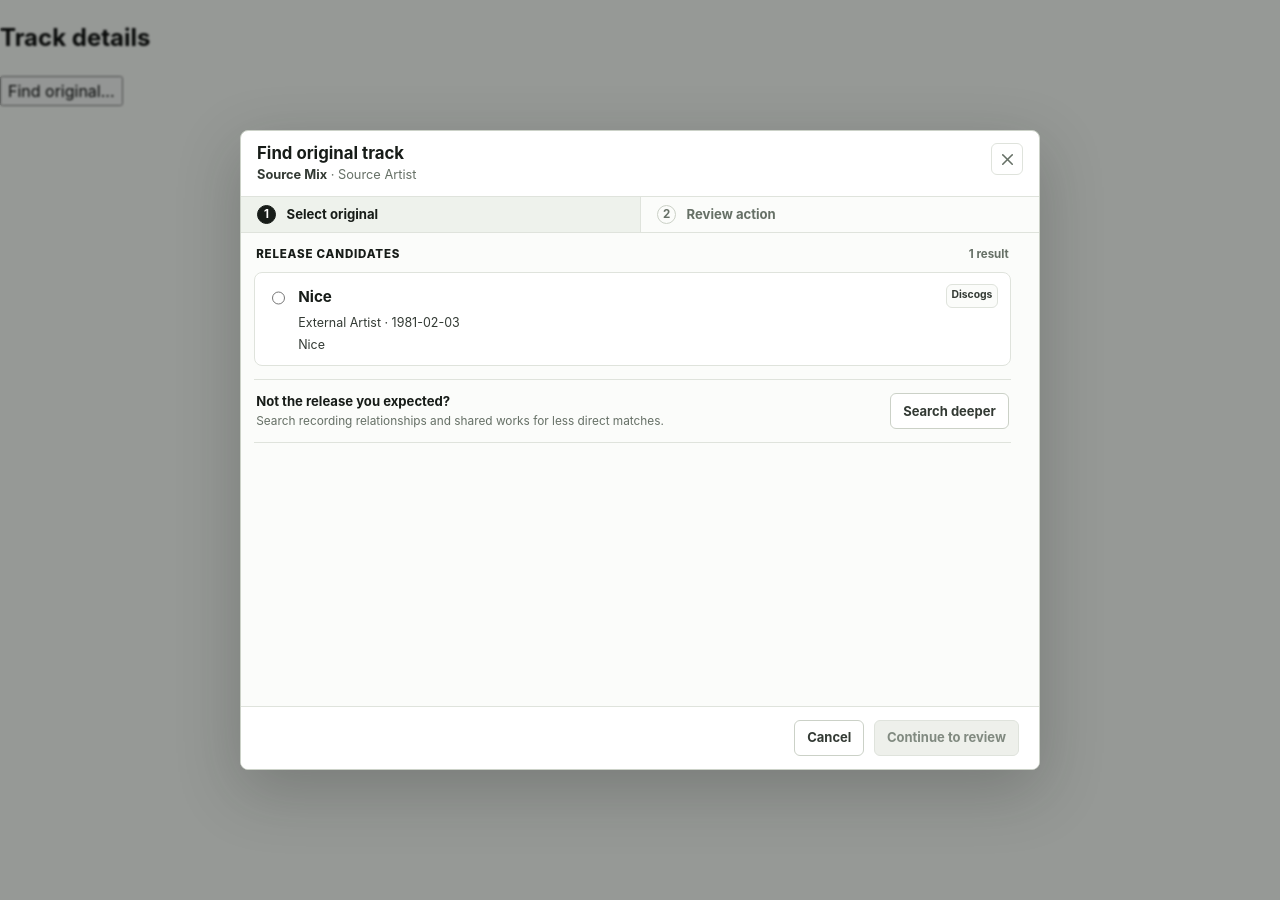
OriginalTrackDiscoveryDialog release-first results › shows and reviews a Discogs-only release without a MusicBrainz link
The image size is (1280, 900).
What coordinates should you click on to do the following:
click the radio button
I would click on:
 (278, 298)
Its box is [272,288,285,308].
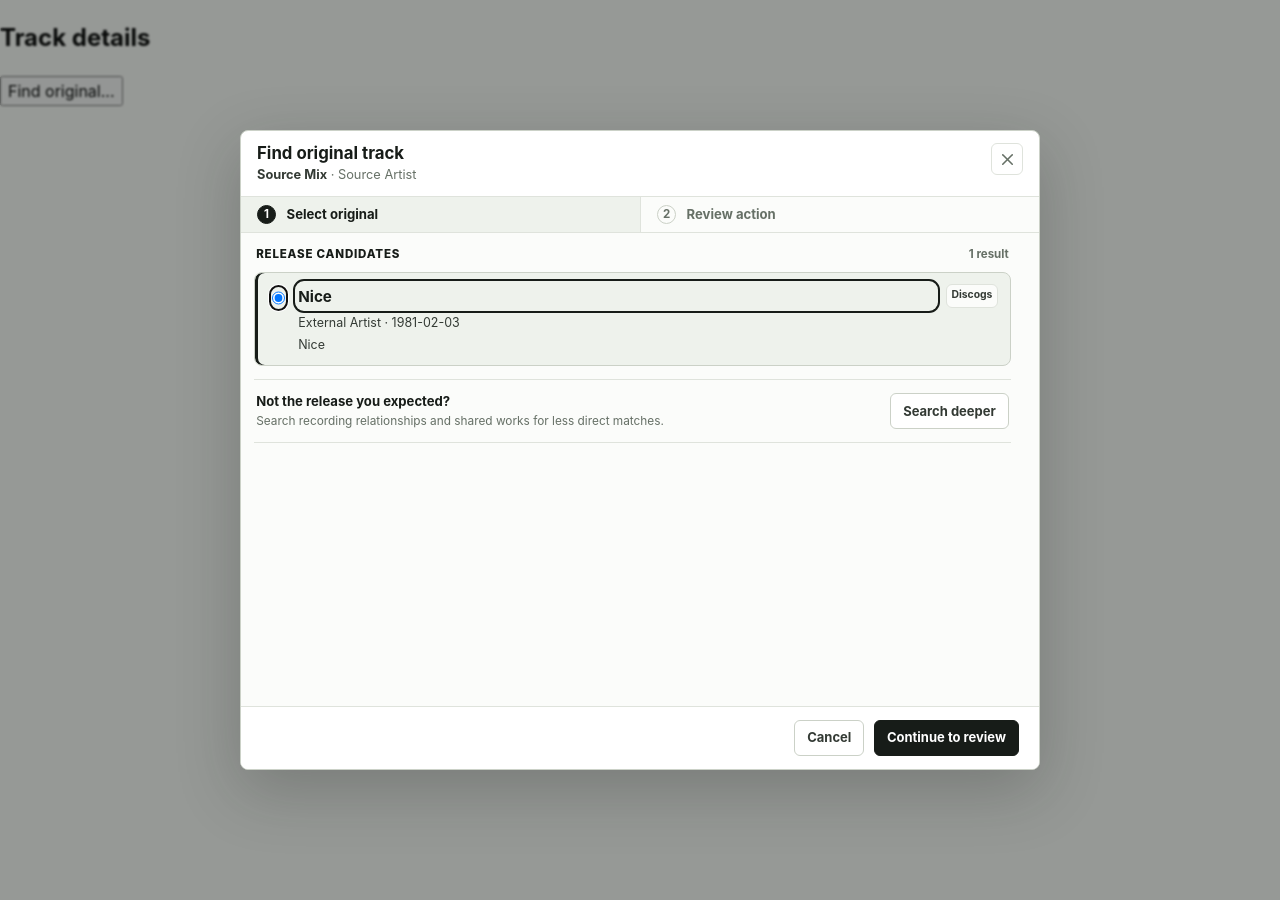
What coordinates should you click on to do the following:
click the button "Continue to review"
I would click on:
 (946, 738)
Its box is [874,720,1019,756].
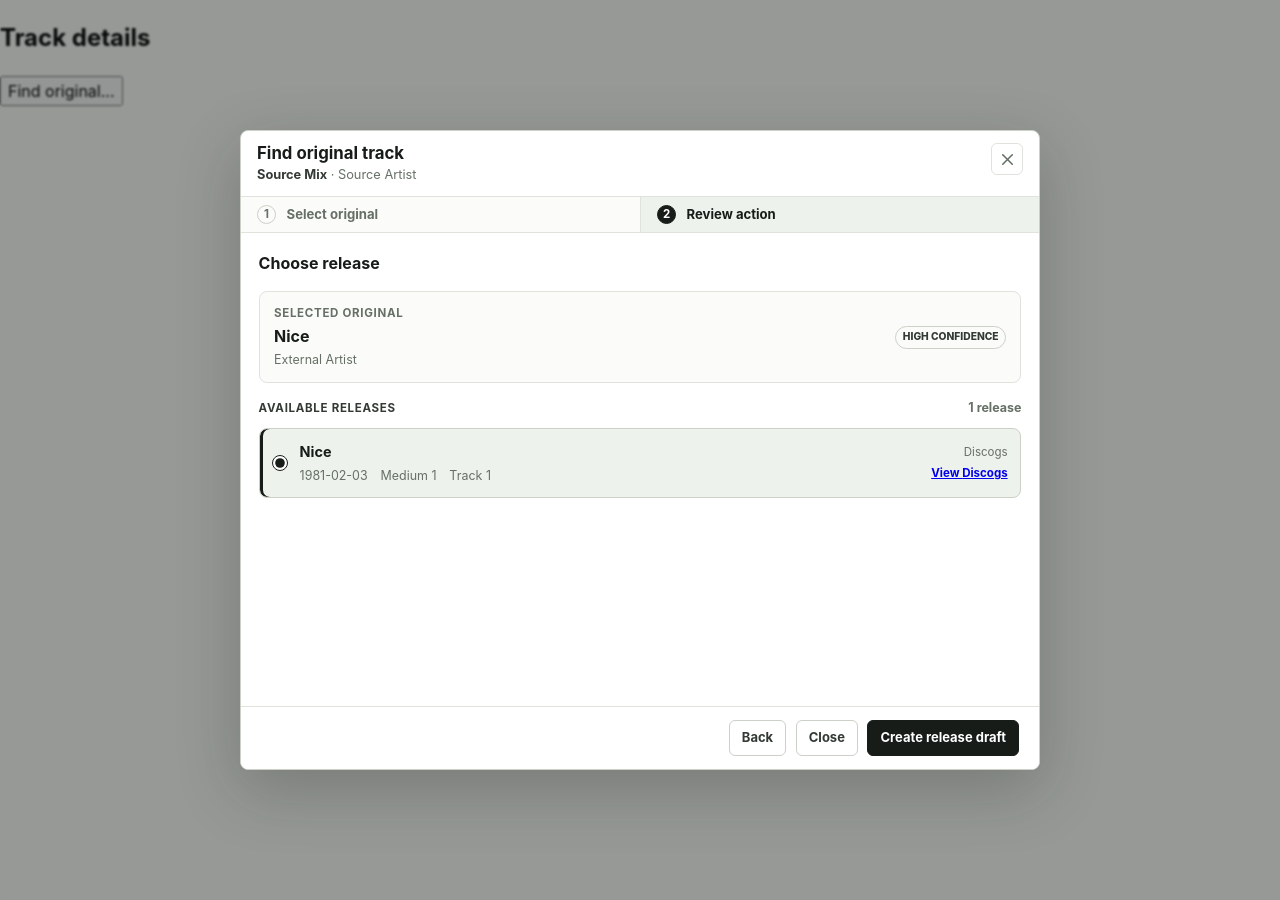
Now the heading "Choose release" is shown, box [259,253,380,273]
